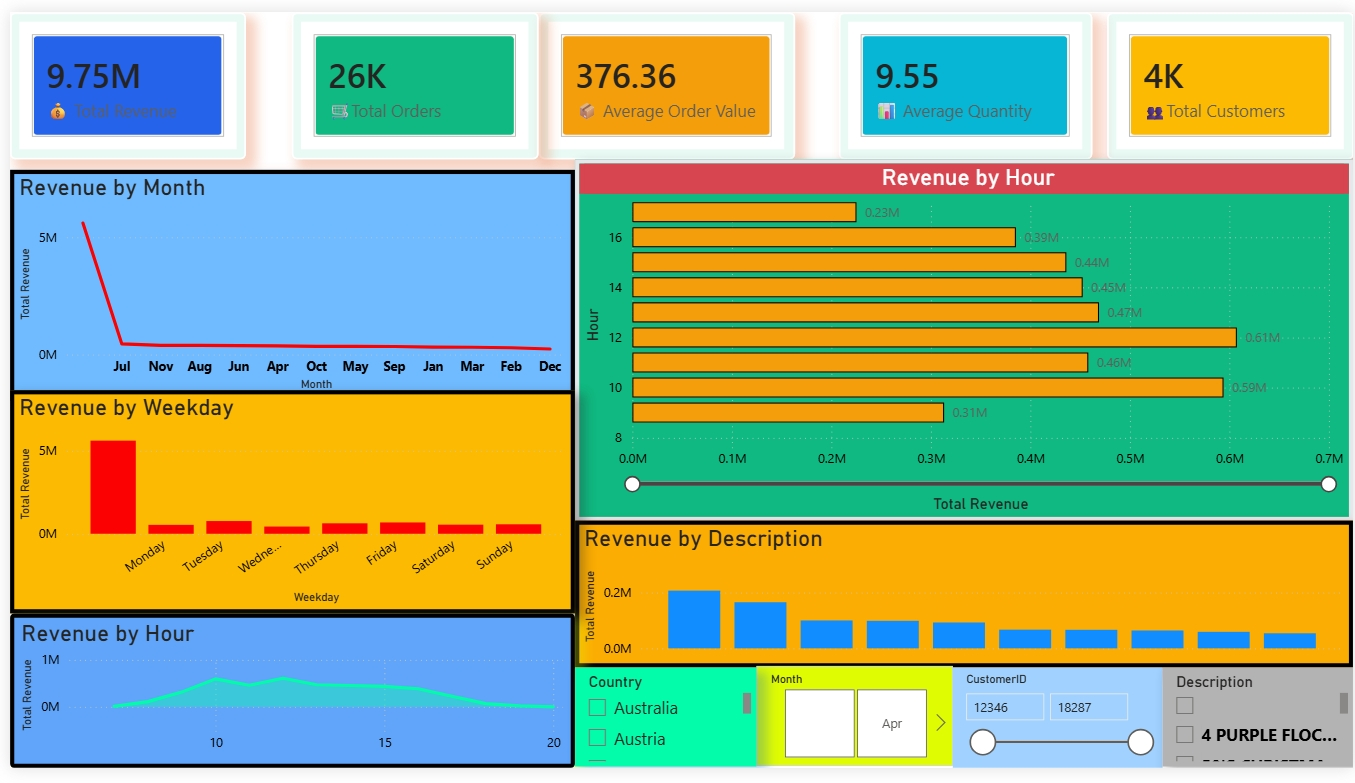

This screenshot's page, from the dashboard's own definition file:
{"tool":"powerbi","page":{"name":"Page 1","canvas":[1280,720],"ordinal":0},"visuals":[{"type":"cardVisual","fields":{"Data":["data.Total Revenue"]},"box":[0,0,225,140],"z":0},{"type":"cardVisual","fields":{"Data":["data.Average Quantity"]},"box":[790,0,241.4,140],"z":1000},{"type":"cardVisual","fields":{"Data":["data.Average Order Value"]},"box":[503.8,0,243.8,140],"z":2000},{"type":"cardVisual","fields":{"Data":["data.Total Orders"]},"box":[268.9,0,235,140],"z":3000},{"type":"cardVisual","fields":{"Data":["data.Total Customers"]},"box":[1045,0,235,140],"z":4000},{"type":"lineChart","title":" Revenue by Month","fields":{"Category":["data.Month"],"Y":["data.Total Revenue"]},"box":[0,150,538.8,220],"z":5000},{"type":"clusteredBarChart","title":"Revenue by Hour","fields":{"Category":["data.Hour"],"Y":["data.Total Revenue"]},"box":[538.3,140,741.7,345],"z":6000},{"type":"clusteredColumnChart","title":"Revenue by Description","fields":{"Category":["data.Description"],"Y":["data.Total Revenue"]},"box":[538.6,484.3,741.4,140],"z":7000},{"type":"clusteredColumnChart","title":"Revenue by Weekday","fields":{"Category":["data.Weekday"],"Y":["data.Total Revenue"]},"box":[0,360,538.6,212.9],"z":8000},{"type":"areaChart","title":"Revenue by Hour","fields":{"Category":["data.Hour"],"Y":["data.Total Revenue"]},"box":[0,572.9,538.6,147.1],"z":9000},{"type":"slicer","fields":{"Values":["data.Month"]},"box":[711.2,622.5,187.5,95],"z":10000},{"type":"slicer","fields":{"Values":["data.Country"]},"box":[538.6,624.3,172.9,94.3],"z":11000},{"type":"slicer","fields":{"Values":["data.CustomerID"]},"box":[898.6,624.3,200,95.7],"z":12000},{"type":"slicer","fields":{"Values":["data.Description"]},"box":[1098.6,624.3,181.4,94.3],"z":13000}]}

Visuals, with their boxes in screenshot pixels (x1, y1, x2, y2), scaled from the page's 1280x720 canvas onto the 1355x783 screenshot:
cardVisual - data.Total Revenue: crop(0, 0, 238, 152)
cardVisual - data.Average Quantity: crop(836, 0, 1092, 152)
cardVisual - data.Average Order Value: crop(533, 0, 791, 152)
cardVisual - data.Total Orders: crop(285, 0, 533, 152)
cardVisual - data.Total Customers: crop(1106, 0, 1354, 152)
" Revenue by Month" lineChart: crop(0, 163, 570, 402)
"Revenue by Hour" clusteredBarChart: crop(570, 152, 1354, 527)
"Revenue by Description" clusteredColumnChart: crop(570, 527, 1354, 679)
"Revenue by Weekday" clusteredColumnChart: crop(0, 391, 570, 623)
"Revenue by Hour" areaChart: crop(0, 623, 570, 782)
slicer - data.Month: crop(753, 677, 951, 780)
slicer - data.Country: crop(570, 679, 753, 781)
slicer - data.CustomerID: crop(951, 679, 1163, 782)
slicer - data.Description: crop(1163, 679, 1354, 781)
